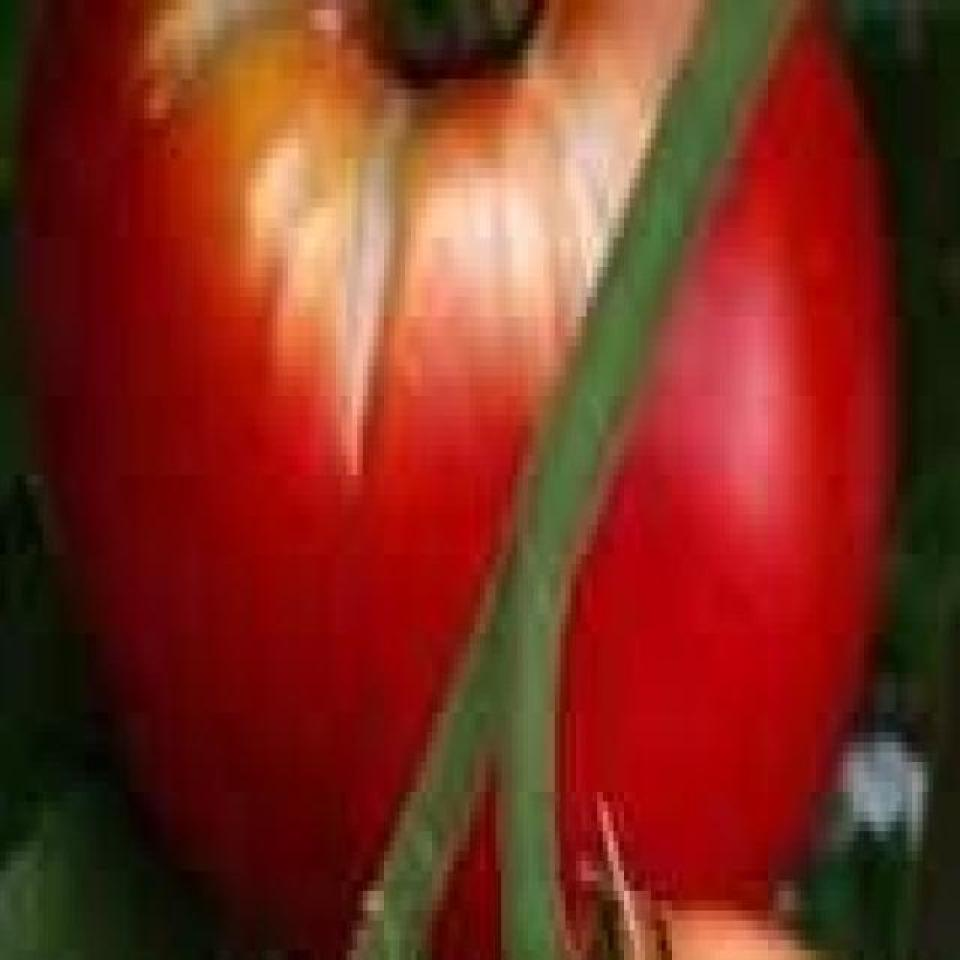Sunscald: (107, 0, 795, 446)
